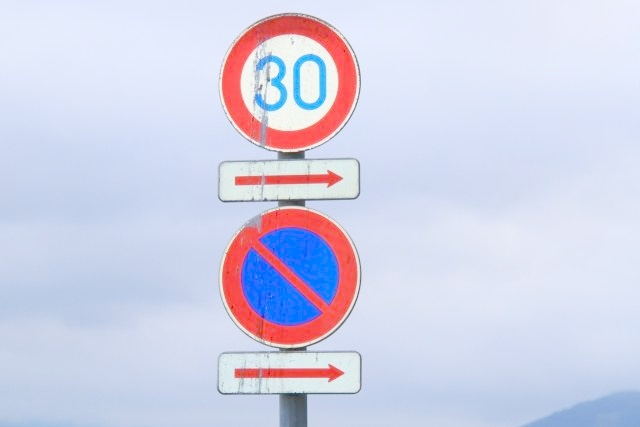Prohibition_sign: (216, 208, 377, 354)
